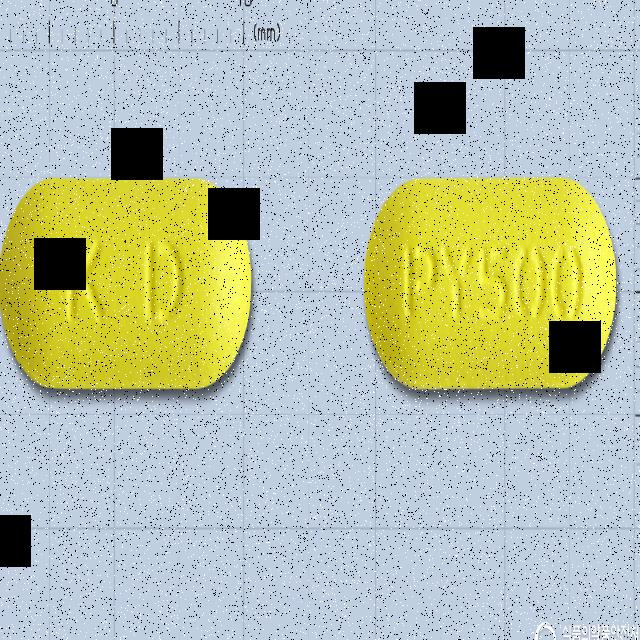Pyrocin Tab: (0, 174, 253, 388), (364, 176, 618, 388)
